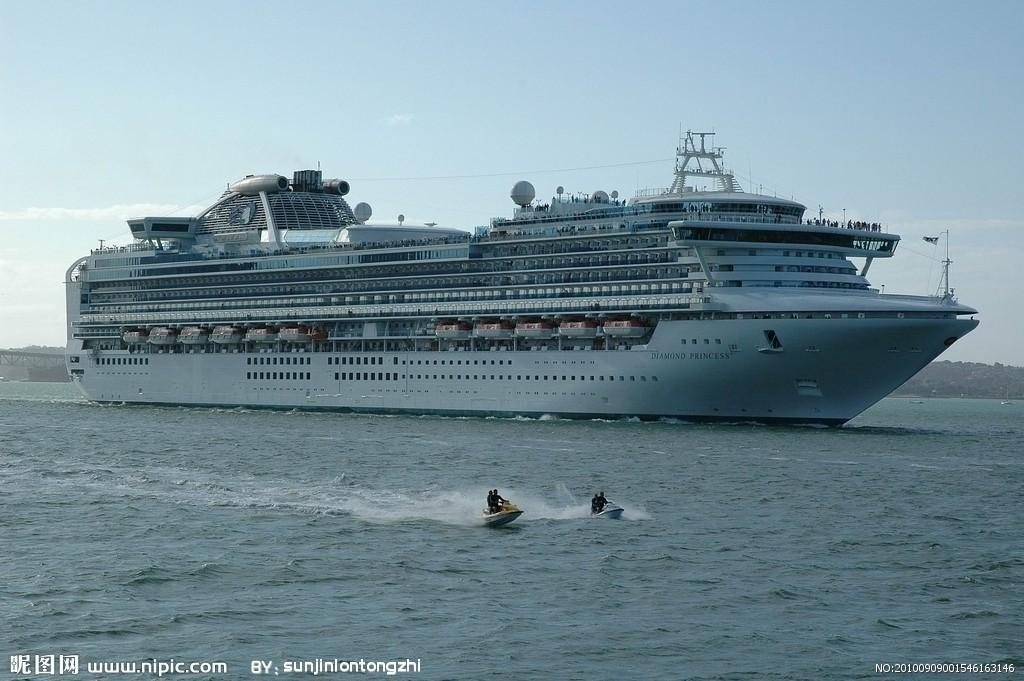youlun: (55, 125, 980, 431)
